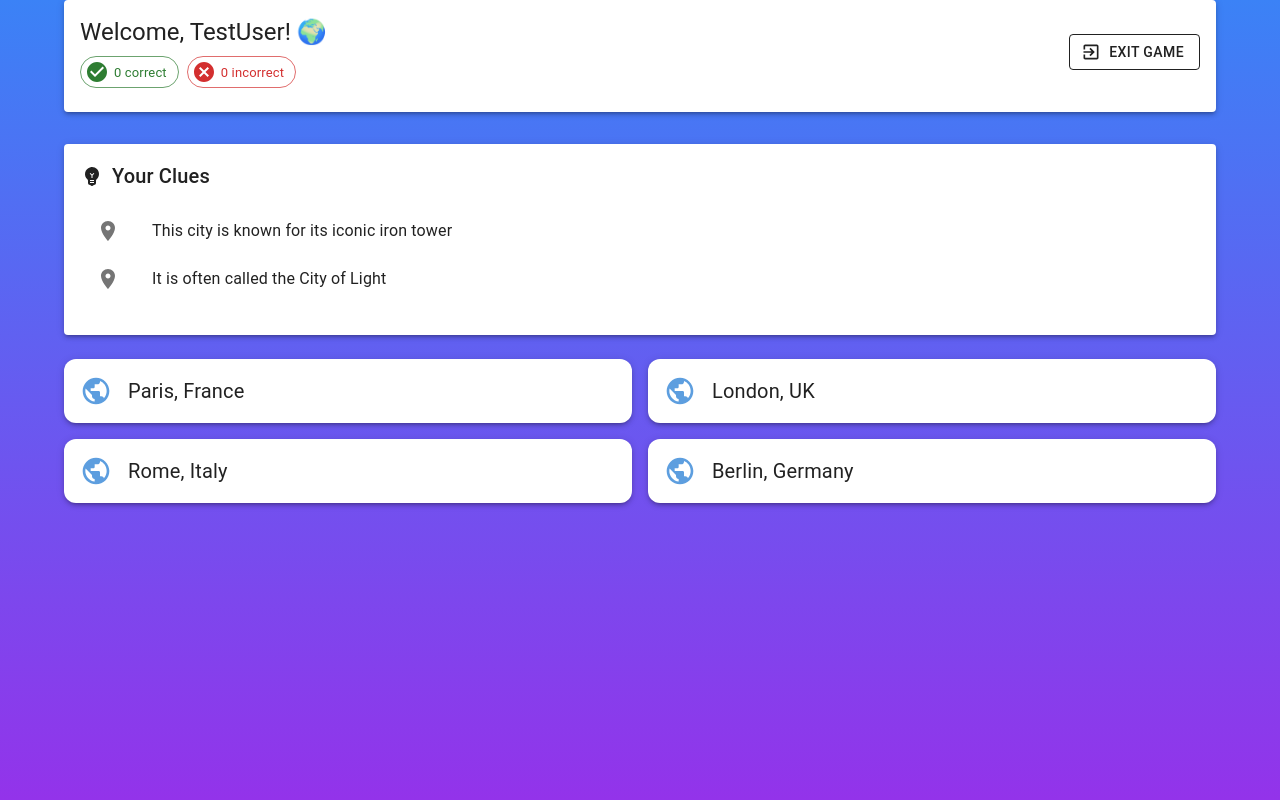
Test: Game Component › handles correct answer selection
Click the heading "Paris, France".
click(186, 391)  # box [128,375,244,407]
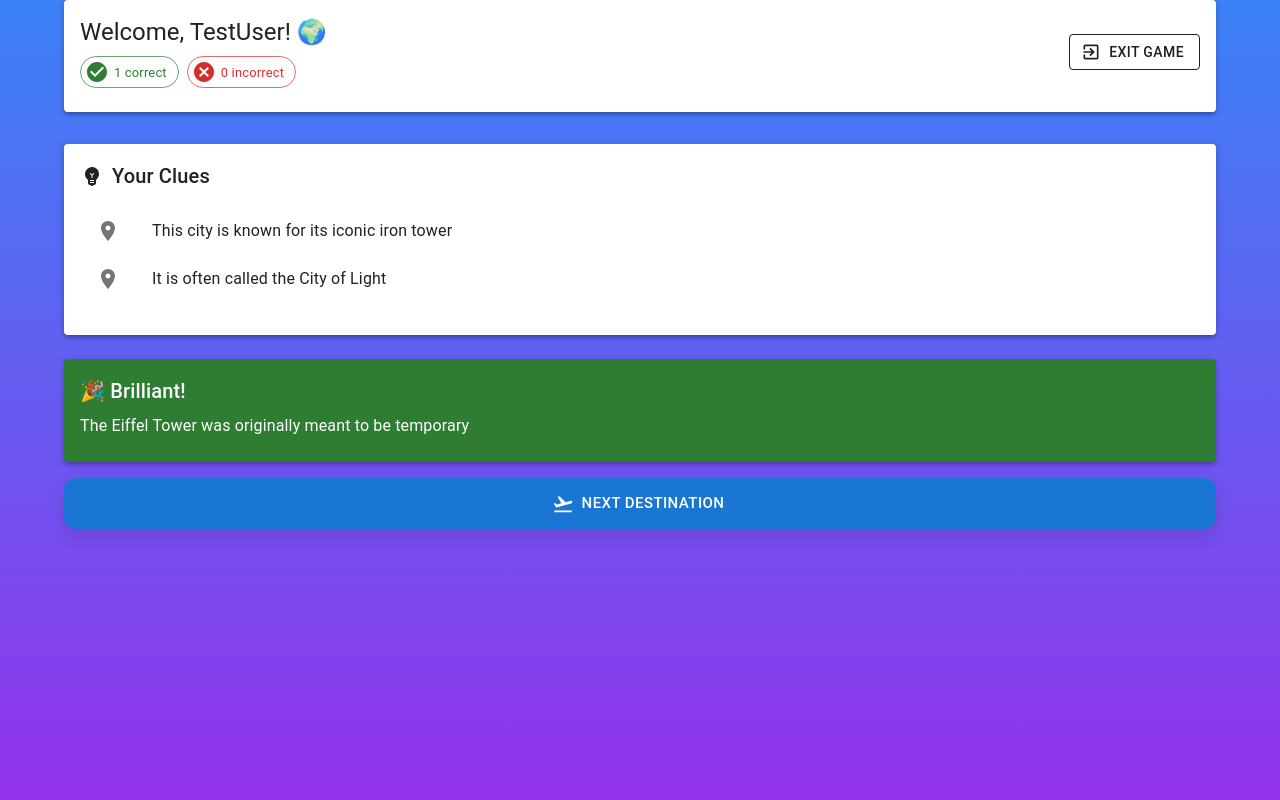
expect the heading "🎉 Brilliant!" is shown: met, box [80,379,186,403]
